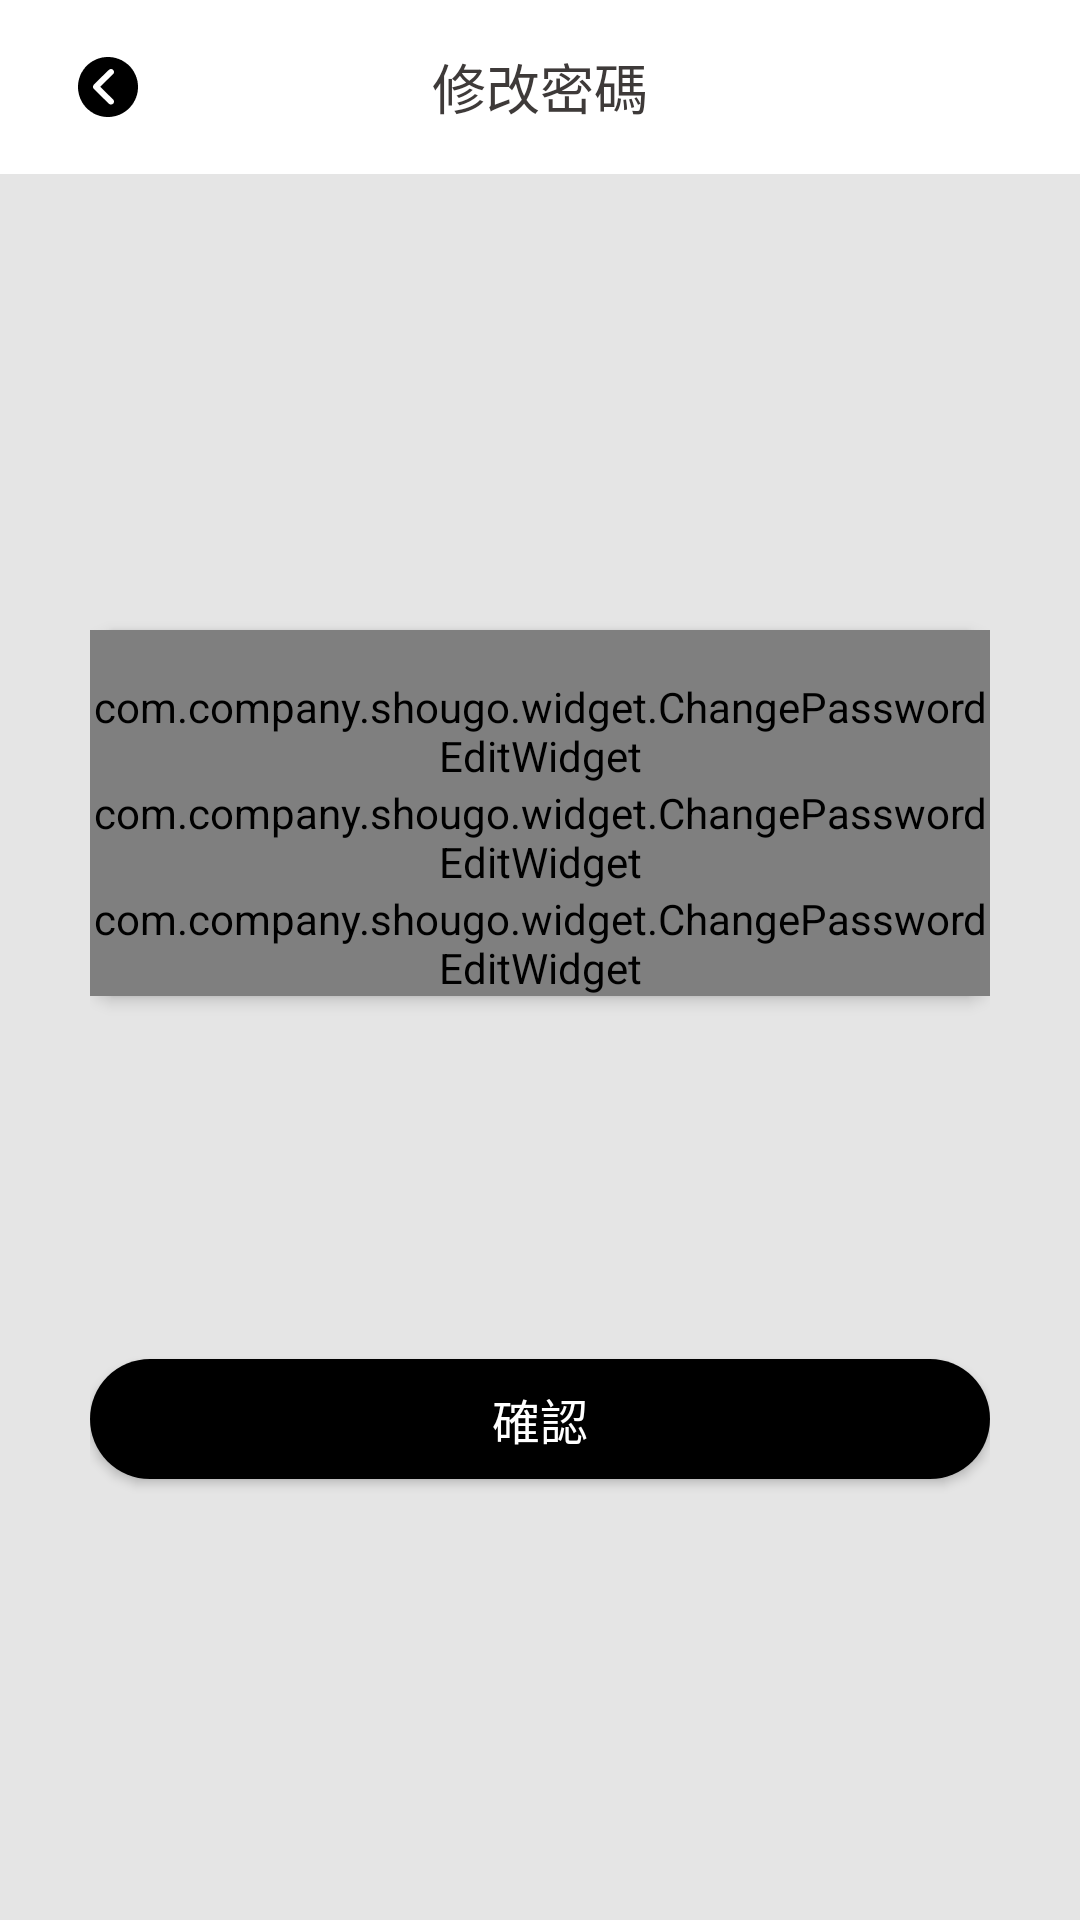

Screen size 1080 × 1920. Icon name, then its box in pixels as (x1, y1, x2, y2):
back: (78, 57, 138, 117)
